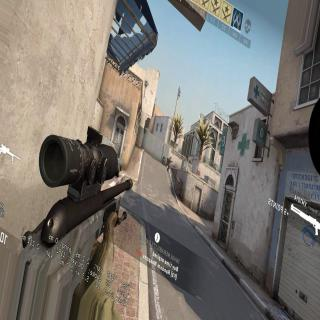T-Body: (167, 155, 172, 173)
T-Head: (170, 157, 172, 159)
